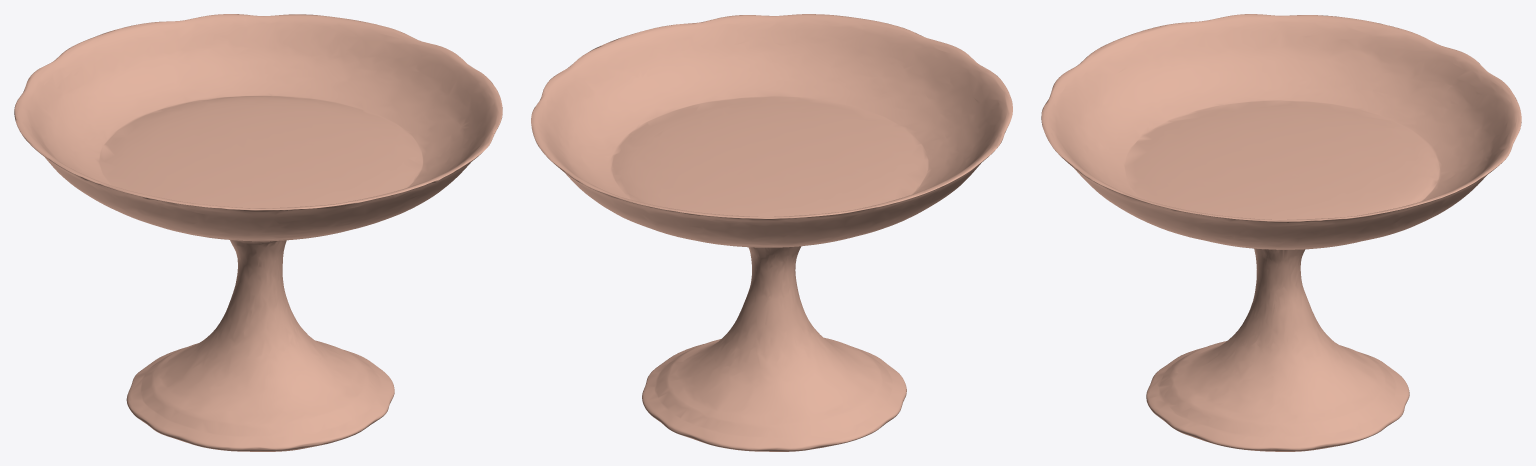
File: wc-sevres-pedestal-bowl.glb
3 renders of one model, left to right at view 1: azimuth 30°, elevation 25°; view 2: azimuth 150°, elevation 25°; view 3: azimuth 270°, elevation 25°, orthographic.
Parts seen in each view (by area): view 1: wc-sevres-pedestal-bowl; view 2: wc-sevres-pedestal-bowl; view 3: wc-sevres-pedestal-bowl.
Part boxes in pixels (x1,y1,x2,y2): wc-sevres-pedestal-bowl: [14, 14, 502, 451]; wc-sevres-pedestal-bowl: [531, 14, 1012, 451]; wc-sevres-pedestal-bowl: [1041, 14, 1521, 451].
Bounding box in the file's own units: 0.2667 × 0.18 × 0.2692.
